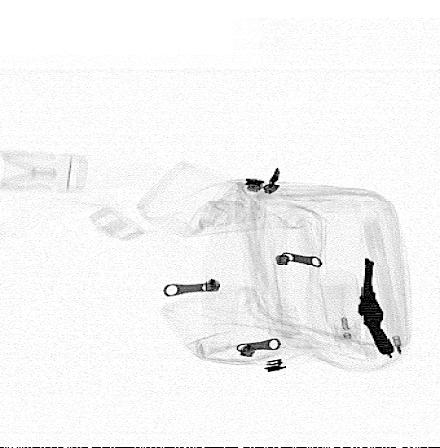Gun: (356, 256, 398, 356)
